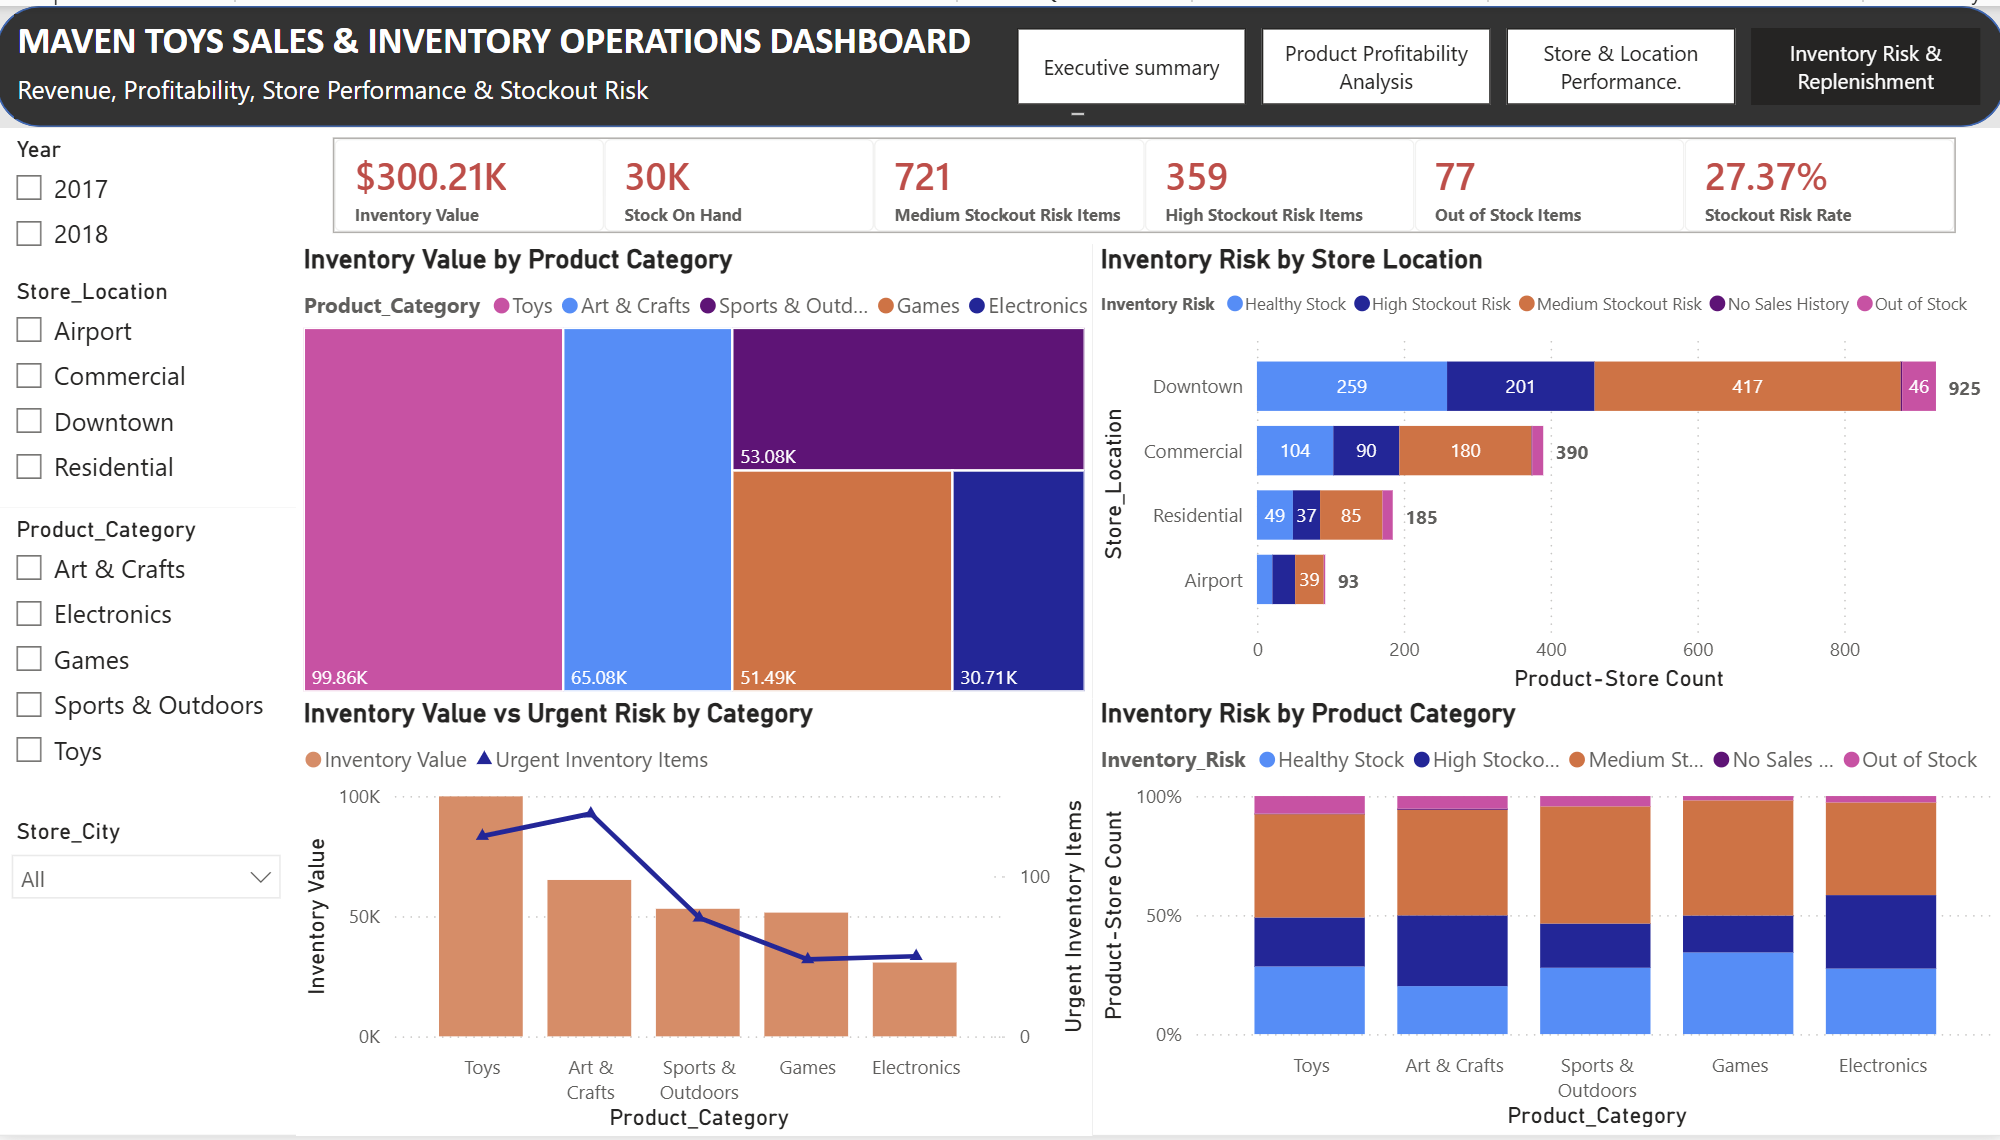

The dashboard page shown, as its layout file describes it:
{"tool":"powerbi","page":{"name":"Inventory Risk & Replenishment","canvas":[1280,720],"ordinal":3},"visuals":[{"type":"shape","box":[0,0,1280,77.1],"z":0},{"type":"slicer","fields":{"Values":["DimStore.Store_City"]},"box":[0,512.9,191.4,207.1],"z":1000},{"type":"slicer","fields":{"Values":["DimStore.Store_Location"]},"box":[0,168.8,191.2,151.2],"z":2000},{"type":"slicer","fields":{"Values":["DimDate.Year"]},"box":[0,77.5,191.2,91.2],"z":3000},{"type":"slicer","fields":{"Values":["DimProduct.Product_Category"]},"box":[0,320,191.2,192.5],"z":4000},{"type":"cardVisual","fields":{"Data":["vw_inventory_risk.Inventory Value","vw_inventory_risk.Stock On Hand","vw_inventory_risk.Medium Stockout Risk Items","vw_inventory_risk.High Stockout Risk Items","vw_inventory_risk.Out of Stock Items","vw_inventory_risk.Stockout Risk Rate"]},"box":[188.7,77.8,1091.3,73.9],"z":5000},{"type":"treemap","title":"Inventory Value by Product Category","fields":{"Group":["DimProduct.Product_Category"],"Values":["vw_inventory_risk.Inventory Value"]},"box":[191.4,151.4,507.1,290],"z":6000},{"type":"barChart","title":"Inventory Risk by Store Location","fields":{"Category":["DimStore.Store_Location"],"Y":["vw_inventory_risk.Product-Store Count"],"Series":["vw_inventory_risk.Inventory_Risk"]},"box":[698.6,151.4,581.4,290],"z":7000},{"type":"lineClusteredColumnComboChart","title":"Inventory Value vs Urgent Risk by Category","fields":{"Category":["DimProduct.Product_Category"],"Y":["vw_inventory_risk.Inventory Value"],"Y2":["vw_inventory_risk.Urgent Inventory Items"]},"box":[191.4,441.4,507.1,280],"z":8000},{"type":"hundredPercentStackedColumnChart","title":"Inventory Risk by Product Category","fields":{"Category":["DimProduct.Product_Category"],"Y":["vw_inventory_risk.Product-Store Count"],"Series":["vw_inventory_risk.Inventory_Risk"]},"box":[698.6,441.4,581.4,278.6],"z":9000},{"type":"textbox","title":"MAVEN TOYS SALES & INVENTORY OPERATIONS DASHBOARD","box":[11.5,5.1,683.3,66.3],"z":10000},{"type":"pageNavigator","box":[650.2,14,614.5,49.7],"z":11000}]}

Visuals, with their boxes in screenshot pixels (x1, y1, x2, y2), scaled from the page's 1280x720 canvas onto the 2000x1140 screenshot:
shape: (x1=0, y1=0, x2=1999, y2=122)
slicer - DimStore.Store_City: (x1=0, y1=812, x2=299, y2=1139)
slicer - DimStore.Store_Location: (x1=0, y1=267, x2=299, y2=507)
slicer - DimDate.Year: (x1=0, y1=123, x2=299, y2=267)
slicer - DimProduct.Product_Category: (x1=0, y1=507, x2=299, y2=811)
cardVisual - vw_inventory_risk.Inventory Value x vw_inventory_risk.Stock On Hand: (x1=295, y1=123, x2=1999, y2=240)
"Inventory Value by Product Category" treemap: (x1=299, y1=240, x2=1091, y2=699)
"Inventory Risk by Store Location" barChart: (x1=1092, y1=240, x2=1999, y2=699)
"Inventory Value vs Urgent Risk by Category" lineClusteredColumnComboChart: (x1=299, y1=699, x2=1091, y2=1139)
"Inventory Risk by Product Category" hundredPercentStackedColumnChart: (x1=1092, y1=699, x2=1999, y2=1139)
"MAVEN TOYS SALES & INVENTORY OPERATIONS DASHBOARD" textbox: (x1=18, y1=8, x2=1086, y2=113)
pageNavigator: (x1=1016, y1=22, x2=1976, y2=101)
